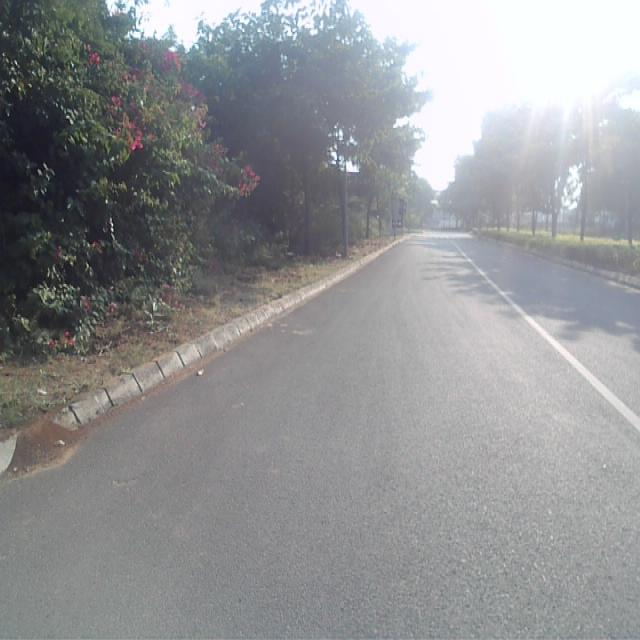lane: (0, 233, 640, 640)
